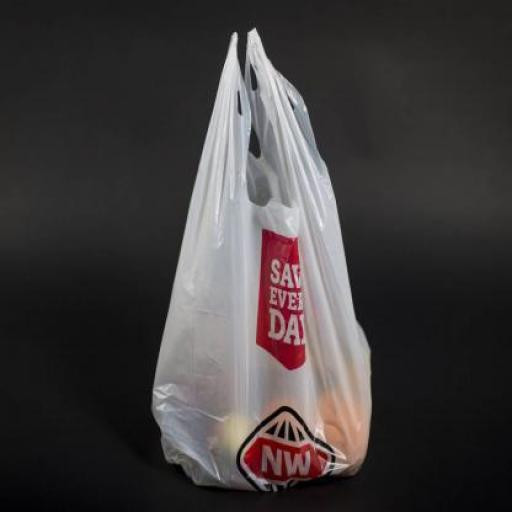plastic bag: (150, 24, 379, 494)
